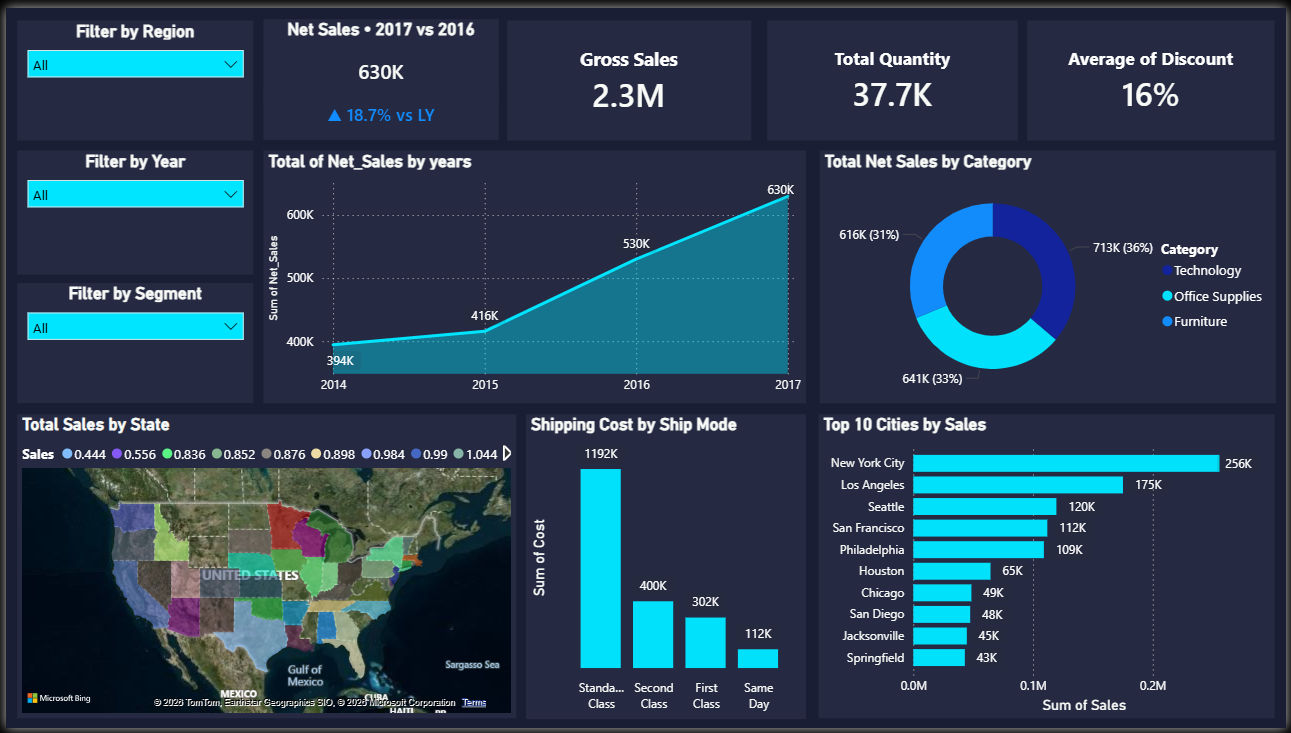

The dashboard page shown, as its layout file describes it:
{"tool":"powerbi","page":{"name":"Sales Performance","canvas":[1280,720],"ordinal":3},"visuals":[{"type":"donutChart","title":"Total Net Sales by Category","fields":{"Category":["Sample - Superstore.Category"],"Y":["Sum(Sample - Superstore.Net_Sales)"]},"box":[813.8,142.5,456.2,252.5],"z":0},{"type":"areaChart","title":"Total of Net_Sales by years","fields":{"Category":["Sample - Superstore.Year"],"Y":["Sum(Sample - Superstore.Net_Sales)"]},"box":[257.5,142.5,542.5,252.5],"z":1000},{"type":"cardVisual","title":"Gross Sales","fields":{"Data":["Sum(Sample - Superstore.Sales)"]},"box":[501.2,12.1,243.9,120.1],"z":2000},{"type":"cardVisual","title":"Average of Discount","fields":{"Data":["Avg(Sample - Superstore.Discount)"]},"box":[1021.2,12.5,247.5,120],"z":3000},{"type":"cardVisual","title":"Total Quantity","fields":{"Data":["Sum(Sample - Superstore.Quantity)"]},"box":[761.2,12.5,250,120],"z":4000},{"type":"filledMap","title":"Total Sales by State","fields":{"Category":["Sample - Superstore.State"],"Series":["Sample - Superstore.Sales"]},"box":[11.2,406.2,498.8,303.8],"z":5000},{"type":"barChart","title":"Top 10 Cities by Sales","fields":{"Category":["Sample - Superstore.City"],"Y":["Sum(Sample - Superstore.Sales)"]},"box":[812.5,406.2,456.2,303.8],"z":6000},{"type":"slicer","title":"Filter by Region","fields":{"Values":["Sample - Superstore.Region"]},"box":[11.2,12.5,236.2,120],"z":7000},{"type":"slicer","title":"Filter by Year","fields":{"Values":["Sample - Superstore.Year"]},"box":[11.2,142.5,236.2,123.8],"z":8000},{"type":"slicer","title":"Filter by Segment","fields":{"Values":["Sample - Superstore.Segment"]},"box":[11.2,275,236.2,120],"z":9000},{"type":"columnChart","title":"Shipping Cost by Ship Mode","fields":{"Category":["Sample - Superstore.Ship Mode"],"Y":["Sum(Sample - Superstore.Cost)"]},"box":[520,406.2,280,305],"z":10000},{"type":"cardVisual","fields":{"Data":["All Measures.Net Sales Growth Text"]},"box":[257.3,77.7,235.4,54.6],"z":11000},{"type":"cardVisual","fields":{"Data":["All Measures.Net Sales Current Year"]},"box":[257.2,10.8,235,82.5],"z":12000}]}

Visuals, with their boxes in screenshot pixels (x1, y1, x2, y2), scaled from the page's 1280x720 canvas onto the 1291x733 screenshot:
"Total Net Sales by Category" donutChart: {"x1": 821, "y1": 145, "x2": 1281, "y2": 402}
"Total of Net_Sales by years" areaChart: {"x1": 260, "y1": 145, "x2": 807, "y2": 402}
"Gross Sales" cardVisual: {"x1": 506, "y1": 12, "x2": 752, "y2": 135}
"Average of Discount" cardVisual: {"x1": 1030, "y1": 13, "x2": 1280, "y2": 135}
"Total Quantity" cardVisual: {"x1": 768, "y1": 13, "x2": 1020, "y2": 135}
"Total Sales by State" filledMap: {"x1": 11, "y1": 414, "x2": 514, "y2": 723}
"Top 10 Cities by Sales" barChart: {"x1": 819, "y1": 414, "x2": 1280, "y2": 723}
"Filter by Region" slicer: {"x1": 11, "y1": 13, "x2": 250, "y2": 135}
"Filter by Year" slicer: {"x1": 11, "y1": 145, "x2": 250, "y2": 271}
"Filter by Segment" slicer: {"x1": 11, "y1": 280, "x2": 250, "y2": 402}
"Shipping Cost by Ship Mode" columnChart: {"x1": 524, "y1": 414, "x2": 807, "y2": 724}
cardVisual - All Measures.Net Sales Growth Text: {"x1": 260, "y1": 79, "x2": 497, "y2": 135}
cardVisual - All Measures.Net Sales Current Year: {"x1": 259, "y1": 11, "x2": 496, "y2": 95}
